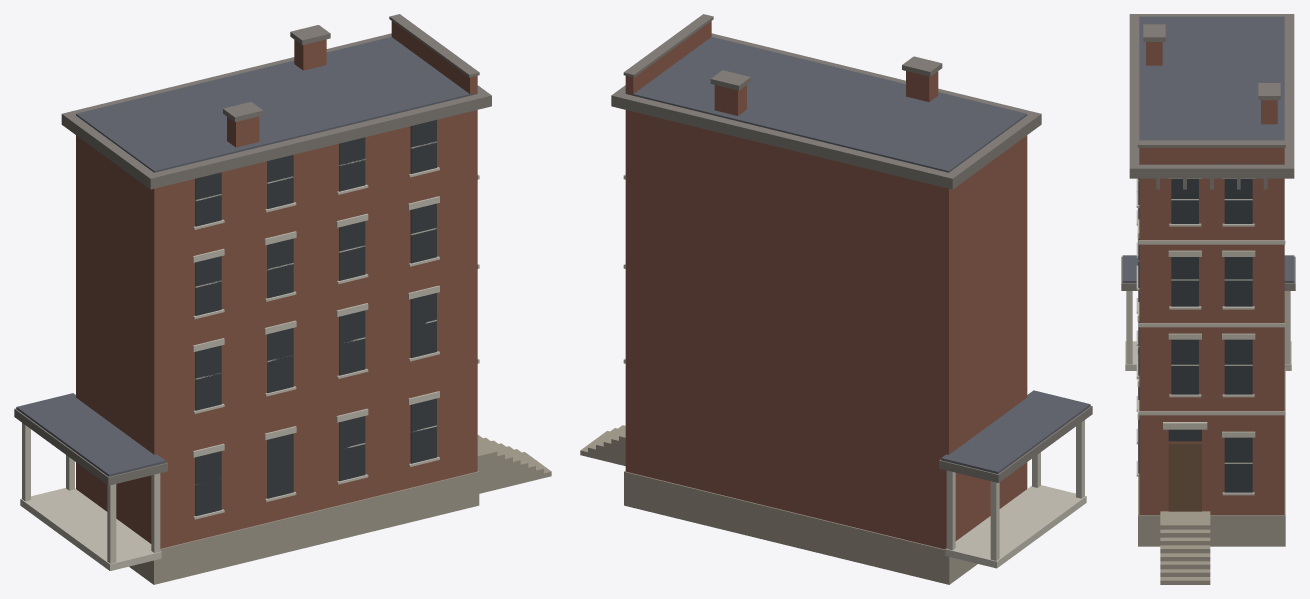
File: house_1613_prairie__draft_1904.glb
The picture shows the model from 3 angles, left to right: view 1: azimuth 30°, elevation 25°; view 2: azimuth 150°, elevation 25°; view 3: azimuth 270°, elevation 25°; orthographic projection. The views are drawn at different scales.
Visible parts, largest first — view 1: house_1613_prairie__draft_1904; view 2: house_1613_prairie__draft_1904; view 3: house_1613_prairie__draft_1904.
Part boxes in pixels (x1,y1,x2,y2): house_1613_prairie__draft_1904: (14,14,551,584); house_1613_prairie__draft_1904: (580,14,1092,584); house_1613_prairie__draft_1904: (1121,14,1295,584).
Size of the model in its own units: 17.95 by 16.44 by 6.3.
